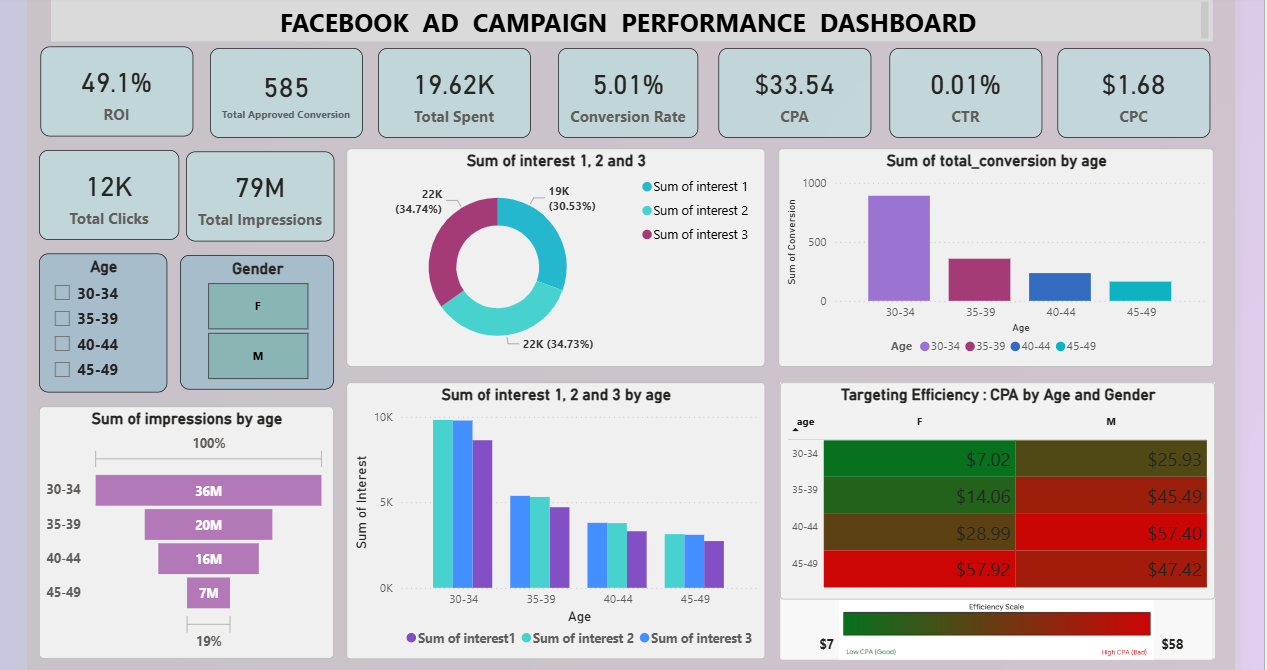

The dashboard page shown, as its layout file describes it:
{"tool":"powerbi","page":{"name":"Page 1","canvas":[1280,720],"ordinal":0},"visuals":[{"type":"pivotTable","title":"Targeting Efficiency : CPA by Age and Gender","fields":{"Rows":["Facebook ads campaign.age"],"Columns":["Facebook ads campaign.gender"],"Values":["Key measures.CPA"]},"box":[797.8,411.9,461.5,229.9],"z":0,"group":"g1"},{"type":"funnel","fields":{"Y":["Sum(Facebook ads campaign.impressions)"],"Category":["Facebook ads campaign.age"]},"box":[13,437.2,312.5,267.2],"z":0},{"type":"image","box":[799.7,642,456.5,63.1],"z":0,"group":"g2"},{"type":"group","id":"g1","title":"Group 2","box":[797.8,411.9,461.5,293.2],"z":1000},{"type":"group","id":"g2","title":"Group 1","box":[799.7,642,446.9,63.1],"z":1000,"group":"g1"},{"type":"textbox","box":[835,674.4,33.2,31],"z":1000,"group":"g2"},{"type":"clusteredColumnChart","title":"Sum of interest 1, 2 and 3 by age","fields":{"Y":["Sum(Facebook ads campaign.interest1)","Sum(Facebook ads campaign.interest2)","Sum(Facebook ads campaign.interest3)"],"Category":["Facebook ads campaign.age"]},"box":[338.4,411.3,443.7,293.1],"z":2000},{"type":"textbox","box":[1196.8,674.4,44.5,30.8],"z":2000,"group":"g2"},{"type":"columnChart","title":"Sum of total_conversion by age ","fields":{"Category":["Facebook ads campaign.age"],"Y":["Sum(Facebook ads campaign.total_conversion)"],"Series":["Facebook ads campaign.age"]},"box":[796.7,163.5,461.5,231.5],"z":3000},{"type":"slicer","title":"Gender","fields":{"Values":["Facebook ads campaign.gender"]},"box":[161.9,276.9,163.5,142.5],"z":4000},{"type":"slicer","title":"Age","fields":{"Values":["Facebook ads campaign.age"]},"box":[13,275.3,136,147.3],"z":5000},{"type":"textbox","box":[25.9,1.6,1232.2,48.6],"z":6000},{"type":"donutChart","title":"Sum of interest 1, 2 and 3","fields":{"Y":["Sum(Facebook ads campaign.interest1)","Sum(Facebook ads campaign.interest2)","Sum(Facebook ads campaign.interest3)"]},"box":[338.4,163.5,443.7,231.5],"z":7000},{"type":"card","fields":{"Values":["Key measures.CPC"]},"box":[1093,56.7,161.9,95.5],"z":8000},{"type":"card","fields":{"Values":["Key measures.CTR"]},"box":[914.9,56.7,161.9,95.5],"z":9000},{"type":"card","fields":{"Values":["Key measures.CPA"]},"box":[733.5,56.7,161.9,95.5],"z":10000},{"type":"card","fields":{"Values":["Key measures.Conversion Rate"]},"box":[563.5,56.7,149,95.5],"z":11000},{"type":"card","fields":{"Values":["Key measures.Total Clicks"]},"box":[13,165.2,149,95.5],"z":12000},{"type":"card","fields":{"Values":["Key measures.Total Spent"]},"box":[372.4,56.7,161.9,95.5],"z":13000},{"type":"card","fields":{"Values":["Key measures.Total Impressions"]},"box":[168.6,167,157.5,95.4],"z":14000},{"type":"card","fields":{"Values":["Key measures.Total Approved Conversion"]},"box":[194.3,56.7,161.9,95.5],"z":15000},{"type":"card","fields":{"Values":["Facebook ads campaign.ROI"]},"box":[14.6,55.1,161.9,95.5],"z":16000}]}

Visuals, with their boxes on the page's 1280x720 design canvas (x1, y1, x2, y2). These are canvas units, not pixel positions in the 1267x670 screenshot, which may show the page scaled, cropped or inside an application window:
"Targeting Efficiency : CPA by Age and Gender" pivotTable: locate(798, 412, 1259, 642)
funnel - Sum(Facebook ads campaign.impressions) x Facebook ads campaign.age: locate(13, 437, 326, 704)
image: locate(800, 642, 1256, 705)
"Group 2" group: locate(798, 412, 1259, 705)
"Group 1" group: locate(800, 642, 1247, 705)
textbox: locate(835, 674, 868, 705)
"Sum of interest 1, 2 and 3 by age" clusteredColumnChart: locate(338, 411, 782, 704)
textbox: locate(1197, 674, 1241, 705)
"Sum of total_conversion by age " columnChart: locate(797, 164, 1258, 395)
"Gender" slicer: locate(162, 277, 325, 419)
"Age" slicer: locate(13, 275, 149, 423)
textbox: locate(26, 2, 1258, 50)
"Sum of interest 1, 2 and 3" donutChart: locate(338, 164, 782, 395)
card - Key measures.CPC: locate(1093, 57, 1255, 152)
card - Key measures.CTR: locate(915, 57, 1077, 152)
card - Key measures.CPA: locate(734, 57, 895, 152)
card - Key measures.Conversion Rate: locate(564, 57, 712, 152)
card - Key measures.Total Clicks: locate(13, 165, 162, 261)
card - Key measures.Total Spent: locate(372, 57, 534, 152)
card - Key measures.Total Impressions: locate(169, 167, 326, 262)
card - Key measures.Total Approved Conversion: locate(194, 57, 356, 152)
card - Facebook ads campaign.ROI: locate(15, 55, 176, 151)
